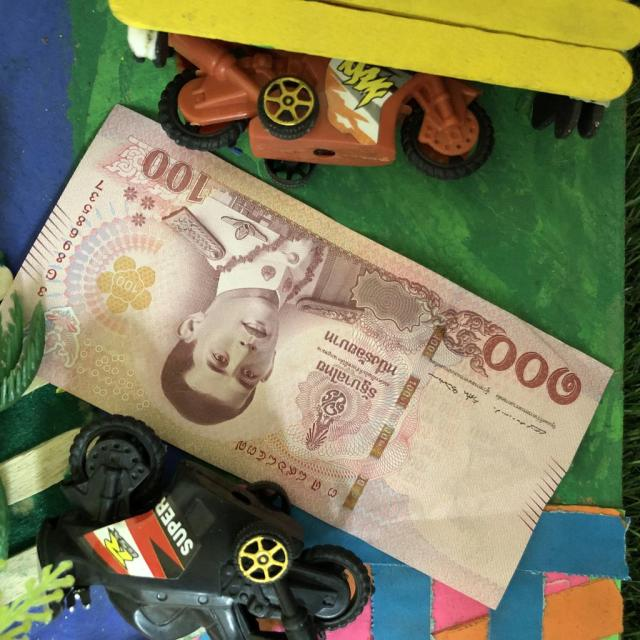THAI100: (15, 106, 614, 639)
